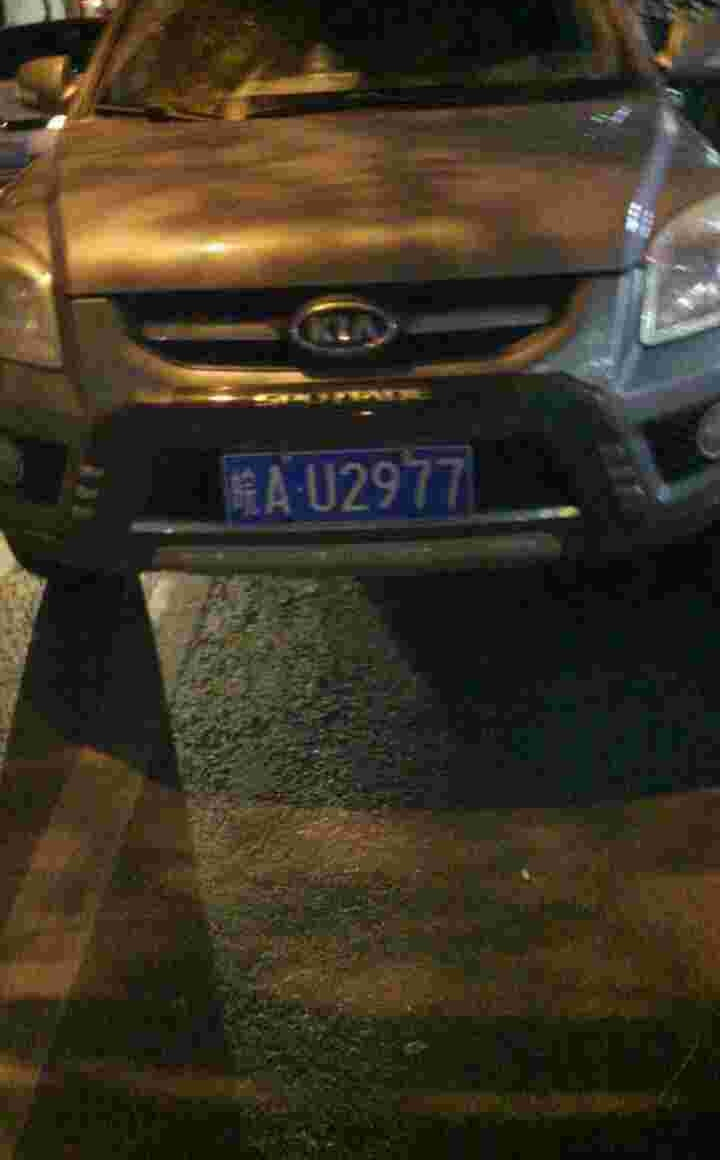plate: (223, 440, 480, 534)
